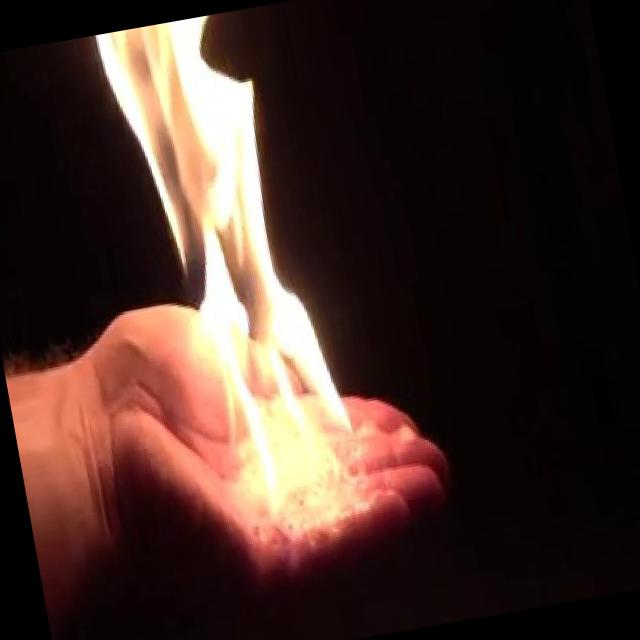Fire: (90, 2, 370, 530)
